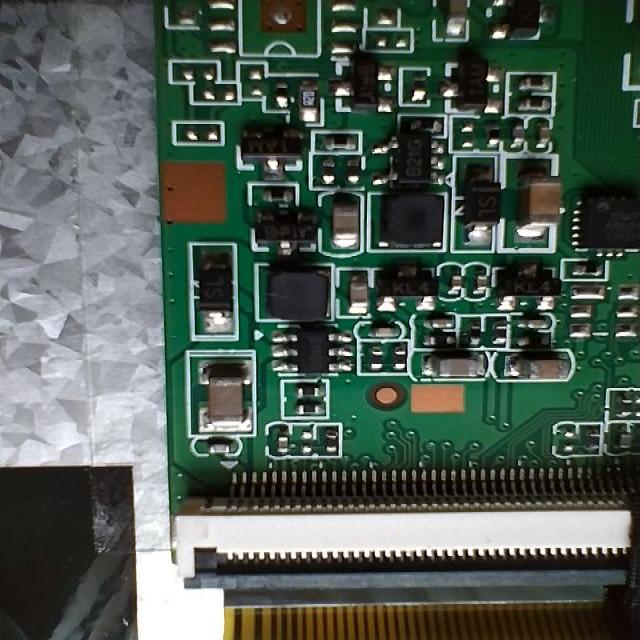capacitor: (180, 342, 272, 449), (497, 150, 574, 259), (311, 186, 376, 264), (401, 342, 495, 392), (493, 356, 588, 393), (339, 262, 376, 324)
resistor: (499, 86, 572, 135), (499, 49, 562, 102), (267, 399, 340, 427), (309, 128, 366, 158)
